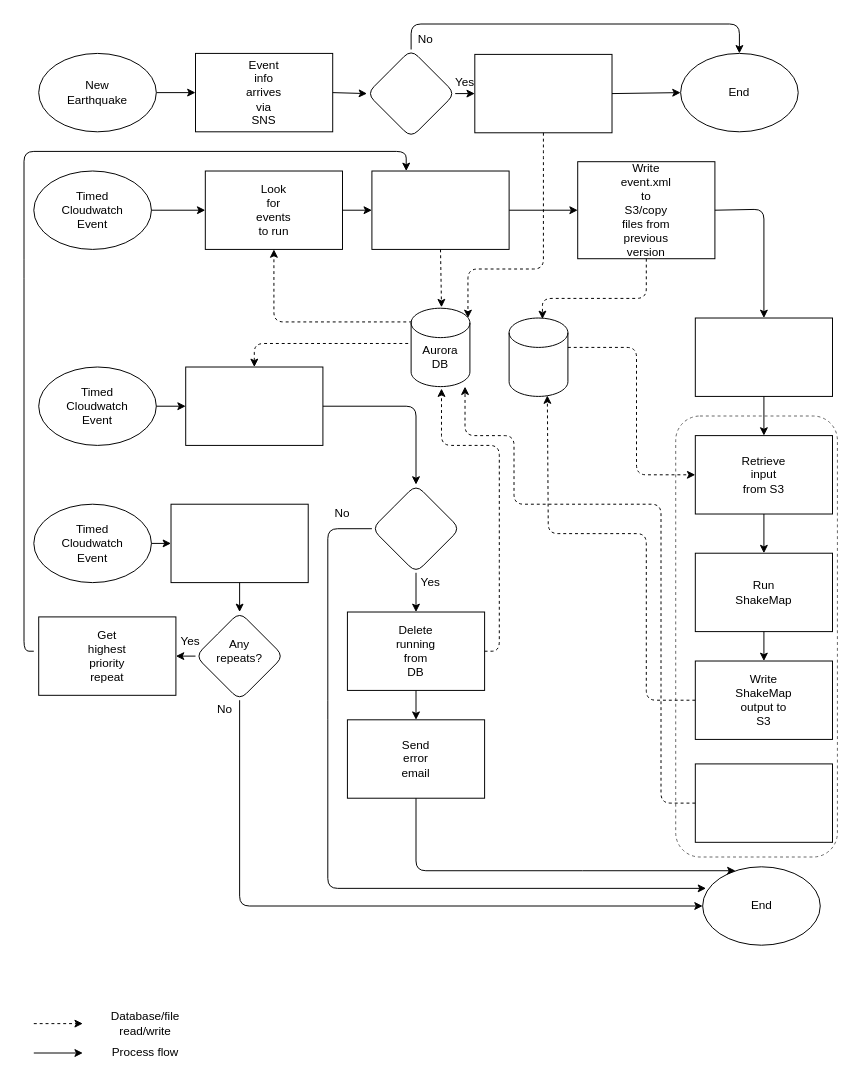
Image size: 859x1080. Some labels were removed from this diagram. The centre of each missing label's shape, as x and y in pixels:
"Amazon S3" belongs at (538,356).
"Any events older than N hours?" belongs at (415,528).
"Check for repeats" belongs at (239,543).
"Check for running events in DB" belongs at (254,405).
"Is event worth running?" belongs at (410,93).
"Mark event run as successful/failed" belongs at (763,802).
"Start compute box with eventid" belongs at (763,356).
"Write event info to DB" belongs at (543,93).
"Write event into running table" belongs at (440,209).
